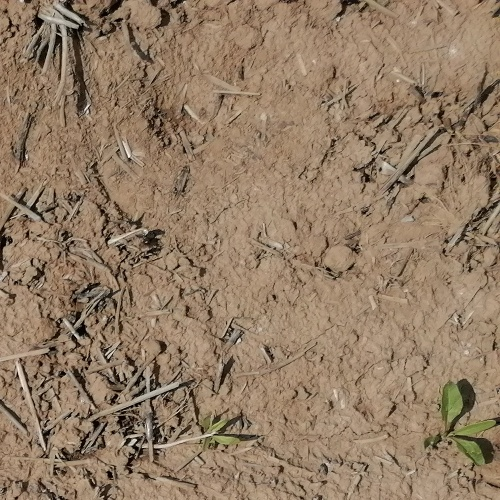beet: (438, 381, 495, 469), (196, 421, 242, 447)
